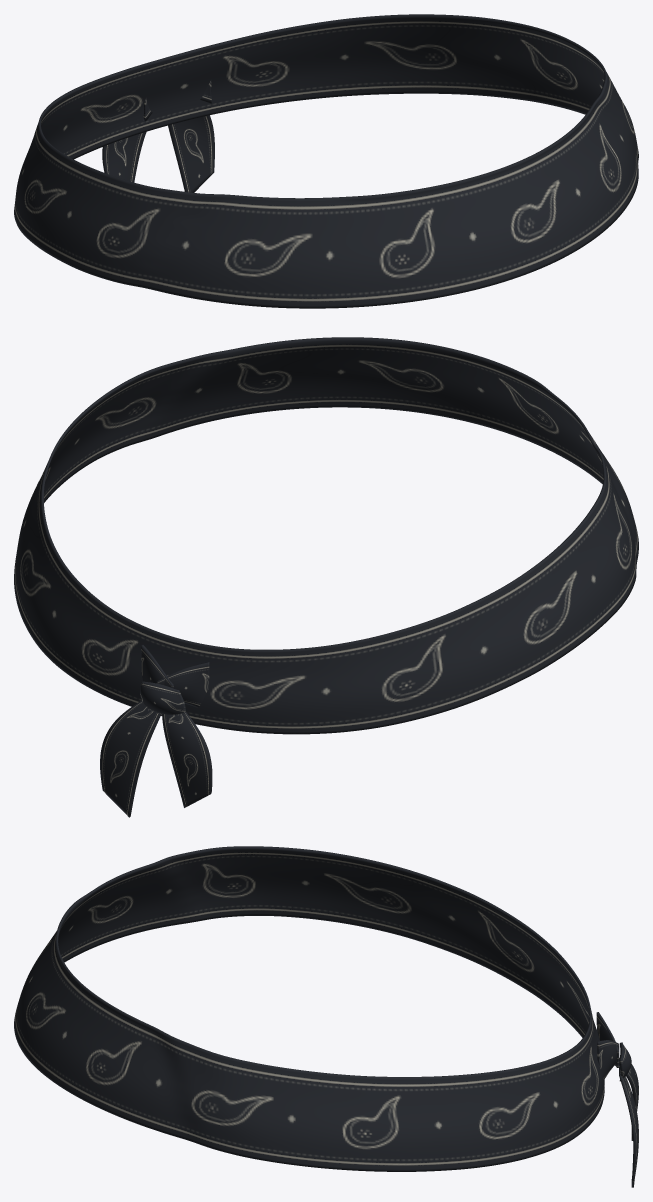
File: Masculine-buzz-bandana.glb
3 renders of one model, top to bottom at view 1: azimuth 30°, elevation 25°; view 2: azimuth 150°, elevation 25°; view 3: azimuth 270°, elevation 25°, orthographic. The views are drawn at different scales.
Parts seen in each view (by area): view 1: Bandana / folded wrap, Bandana / hemmed tail 1, Bandana / hemmed tail -1; view 2: Bandana / folded wrap, Bandana / hemmed tail 1, Bandana / hemmed tail -1, Bandana / gathered fold -1, Bandana / rounded knot fold, Bandana / gathered fold 1; view 3: Bandana / folded wrap, Bandana / hemmed tail 1, Bandana / gathered fold 1.
Boxes of the visible parts, left/top/right/bottom form: Bandana / folded wrap: left=14, top=14, right=638, bottom=308; Bandana / hemmed tail 1: left=168, top=115, right=214, bottom=192; Bandana / hemmed tail -1: left=102, top=132, right=146, bottom=182; Bandana / folded wrap: left=14, top=337, right=638, bottom=734; Bandana / hemmed tail 1: left=100, top=700, right=160, bottom=817; Bandana / hemmed tail -1: left=162, top=711, right=212, bottom=807; Bandana / gathered fold -1: left=156, top=662, right=209, bottom=707; Bandana / rounded knot fold: left=140, top=681, right=185, bottom=715; Bandana / gathered fold 1: left=141, top=644, right=173, bottom=688; Bandana / folded wrap: left=14, top=846, right=604, bottom=1171; Bandana / hemmed tail 1: left=619, top=1066, right=638, bottom=1187; Bandana / gathered fold 1: left=597, top=1040, right=619, bottom=1080.
Bounding box in the file's own units: 0.7811 × 0.3402 × 0.8168.
Materials: 1 (1 with a texture image).
